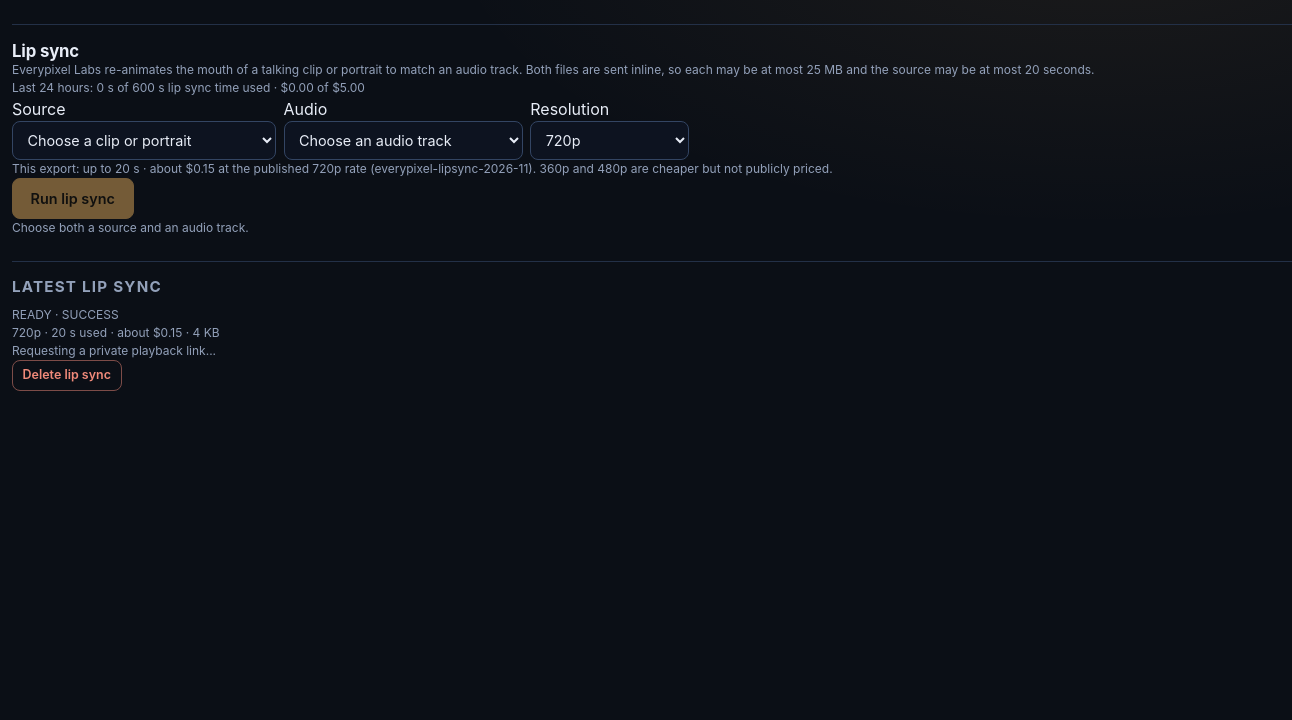
Scenario: lip sync panel › deletes only after a confirmation and re-reads the list
Expected: the heading "Latest lip sync" is shown, [12,277,162,296]
Click the button "Delete lip sync": (67, 375) [12,360,122,391]
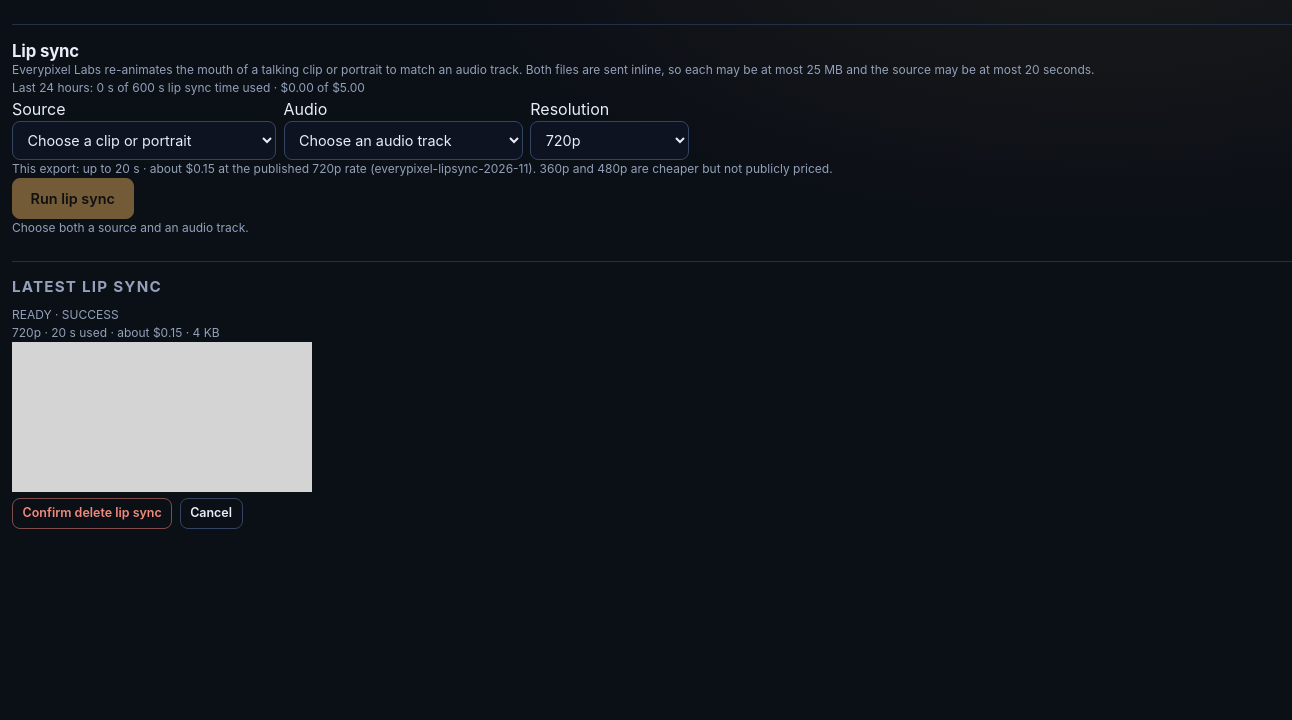
Expected: the button "Confirm delete lip sync" is shown, [12,498,172,529]
Click the button "Cancel": (211, 513) [180,498,243,529]
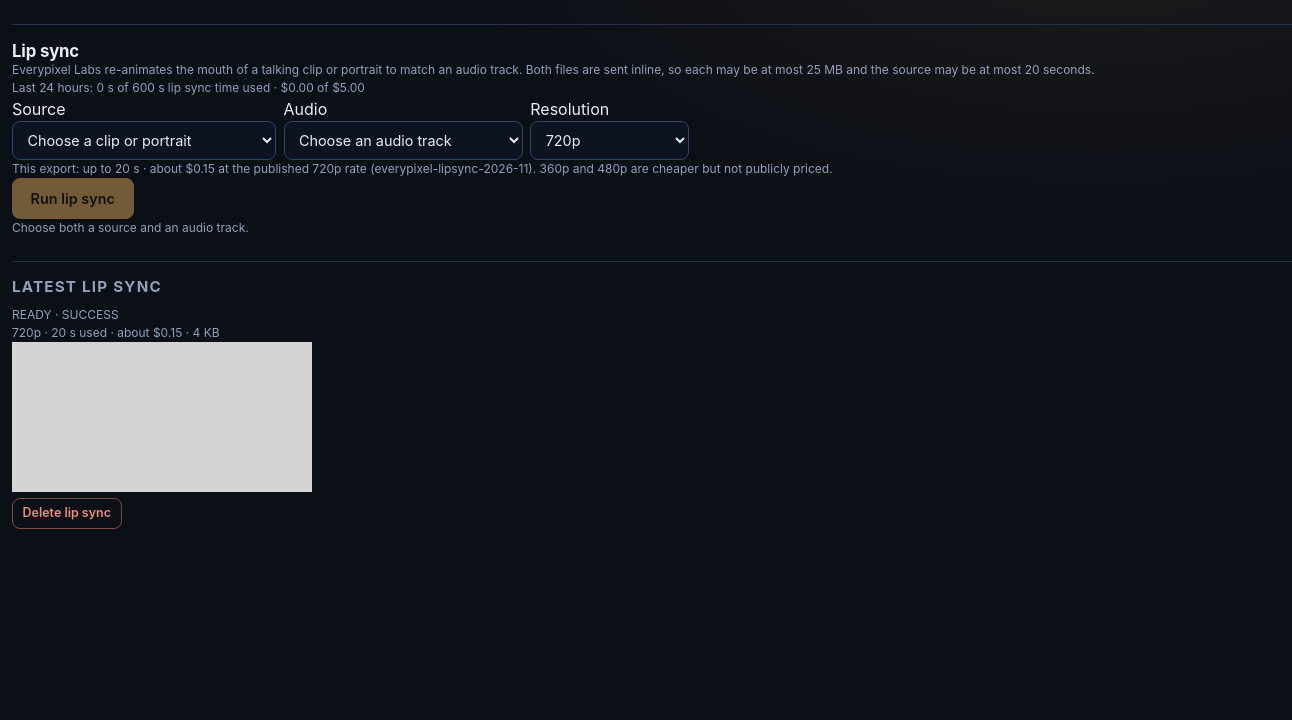
Click the button "Delete lip sync": (67, 513) [12,498,122,529]
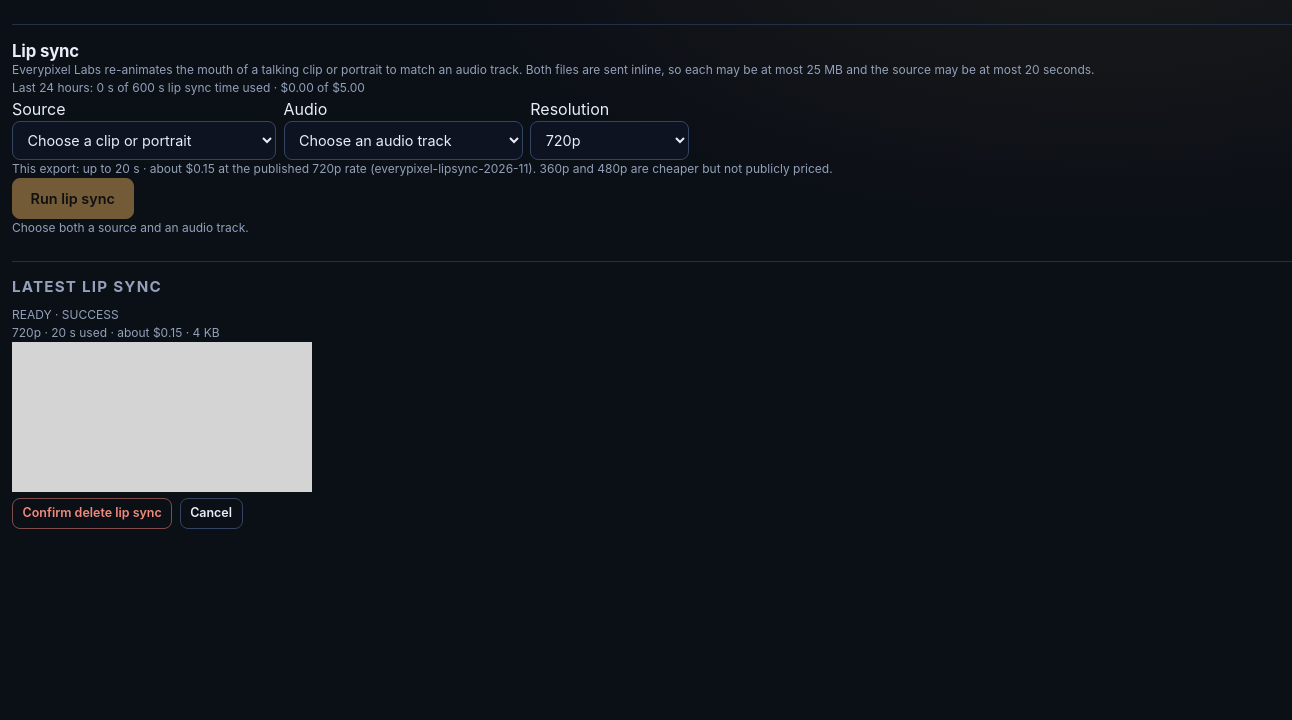
Click the button "Confirm delete lip sync": (92, 513) [12,498,172,529]
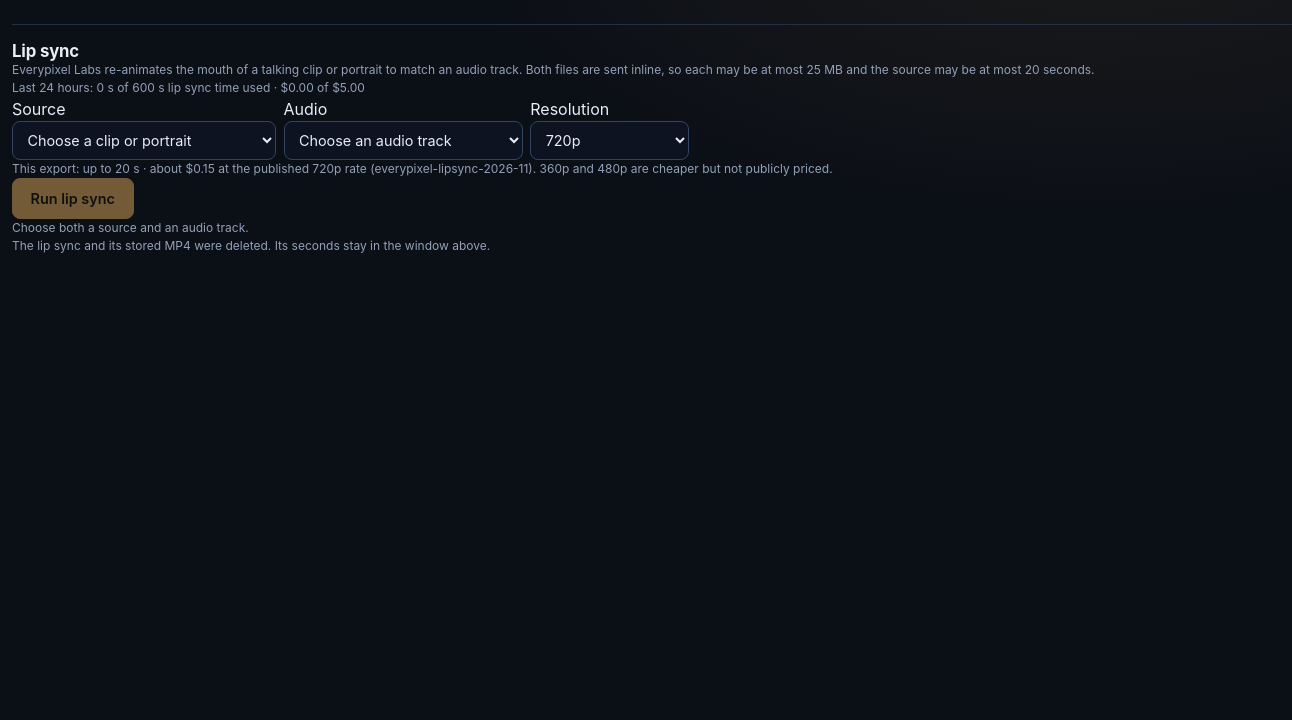
Expected: the heading "Latest lip sync" is gone
Expected: the text "The lip sync and its stored MP4 were deleted" is shown, [12,238,490,253]
